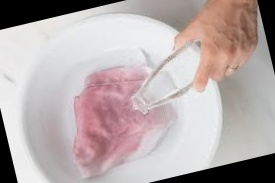wine: (61, 57, 177, 173)
